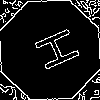H: (25, 25, 81, 77)
